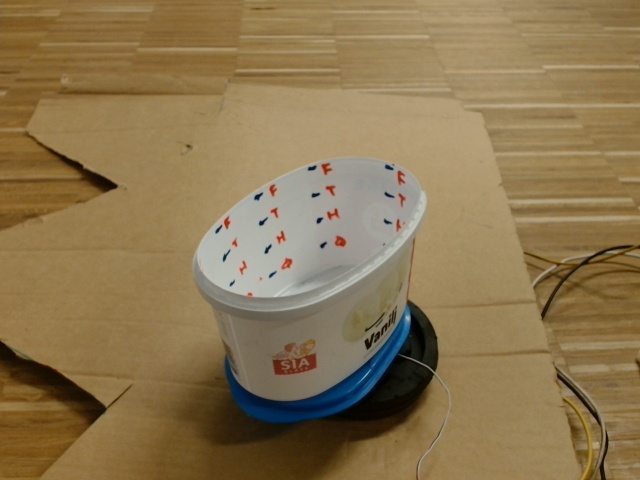Big_zero: (193, 155, 425, 314)
